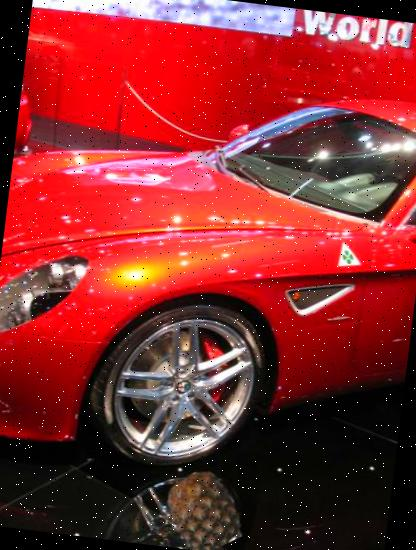Pineapple: (159, 467, 246, 550)
